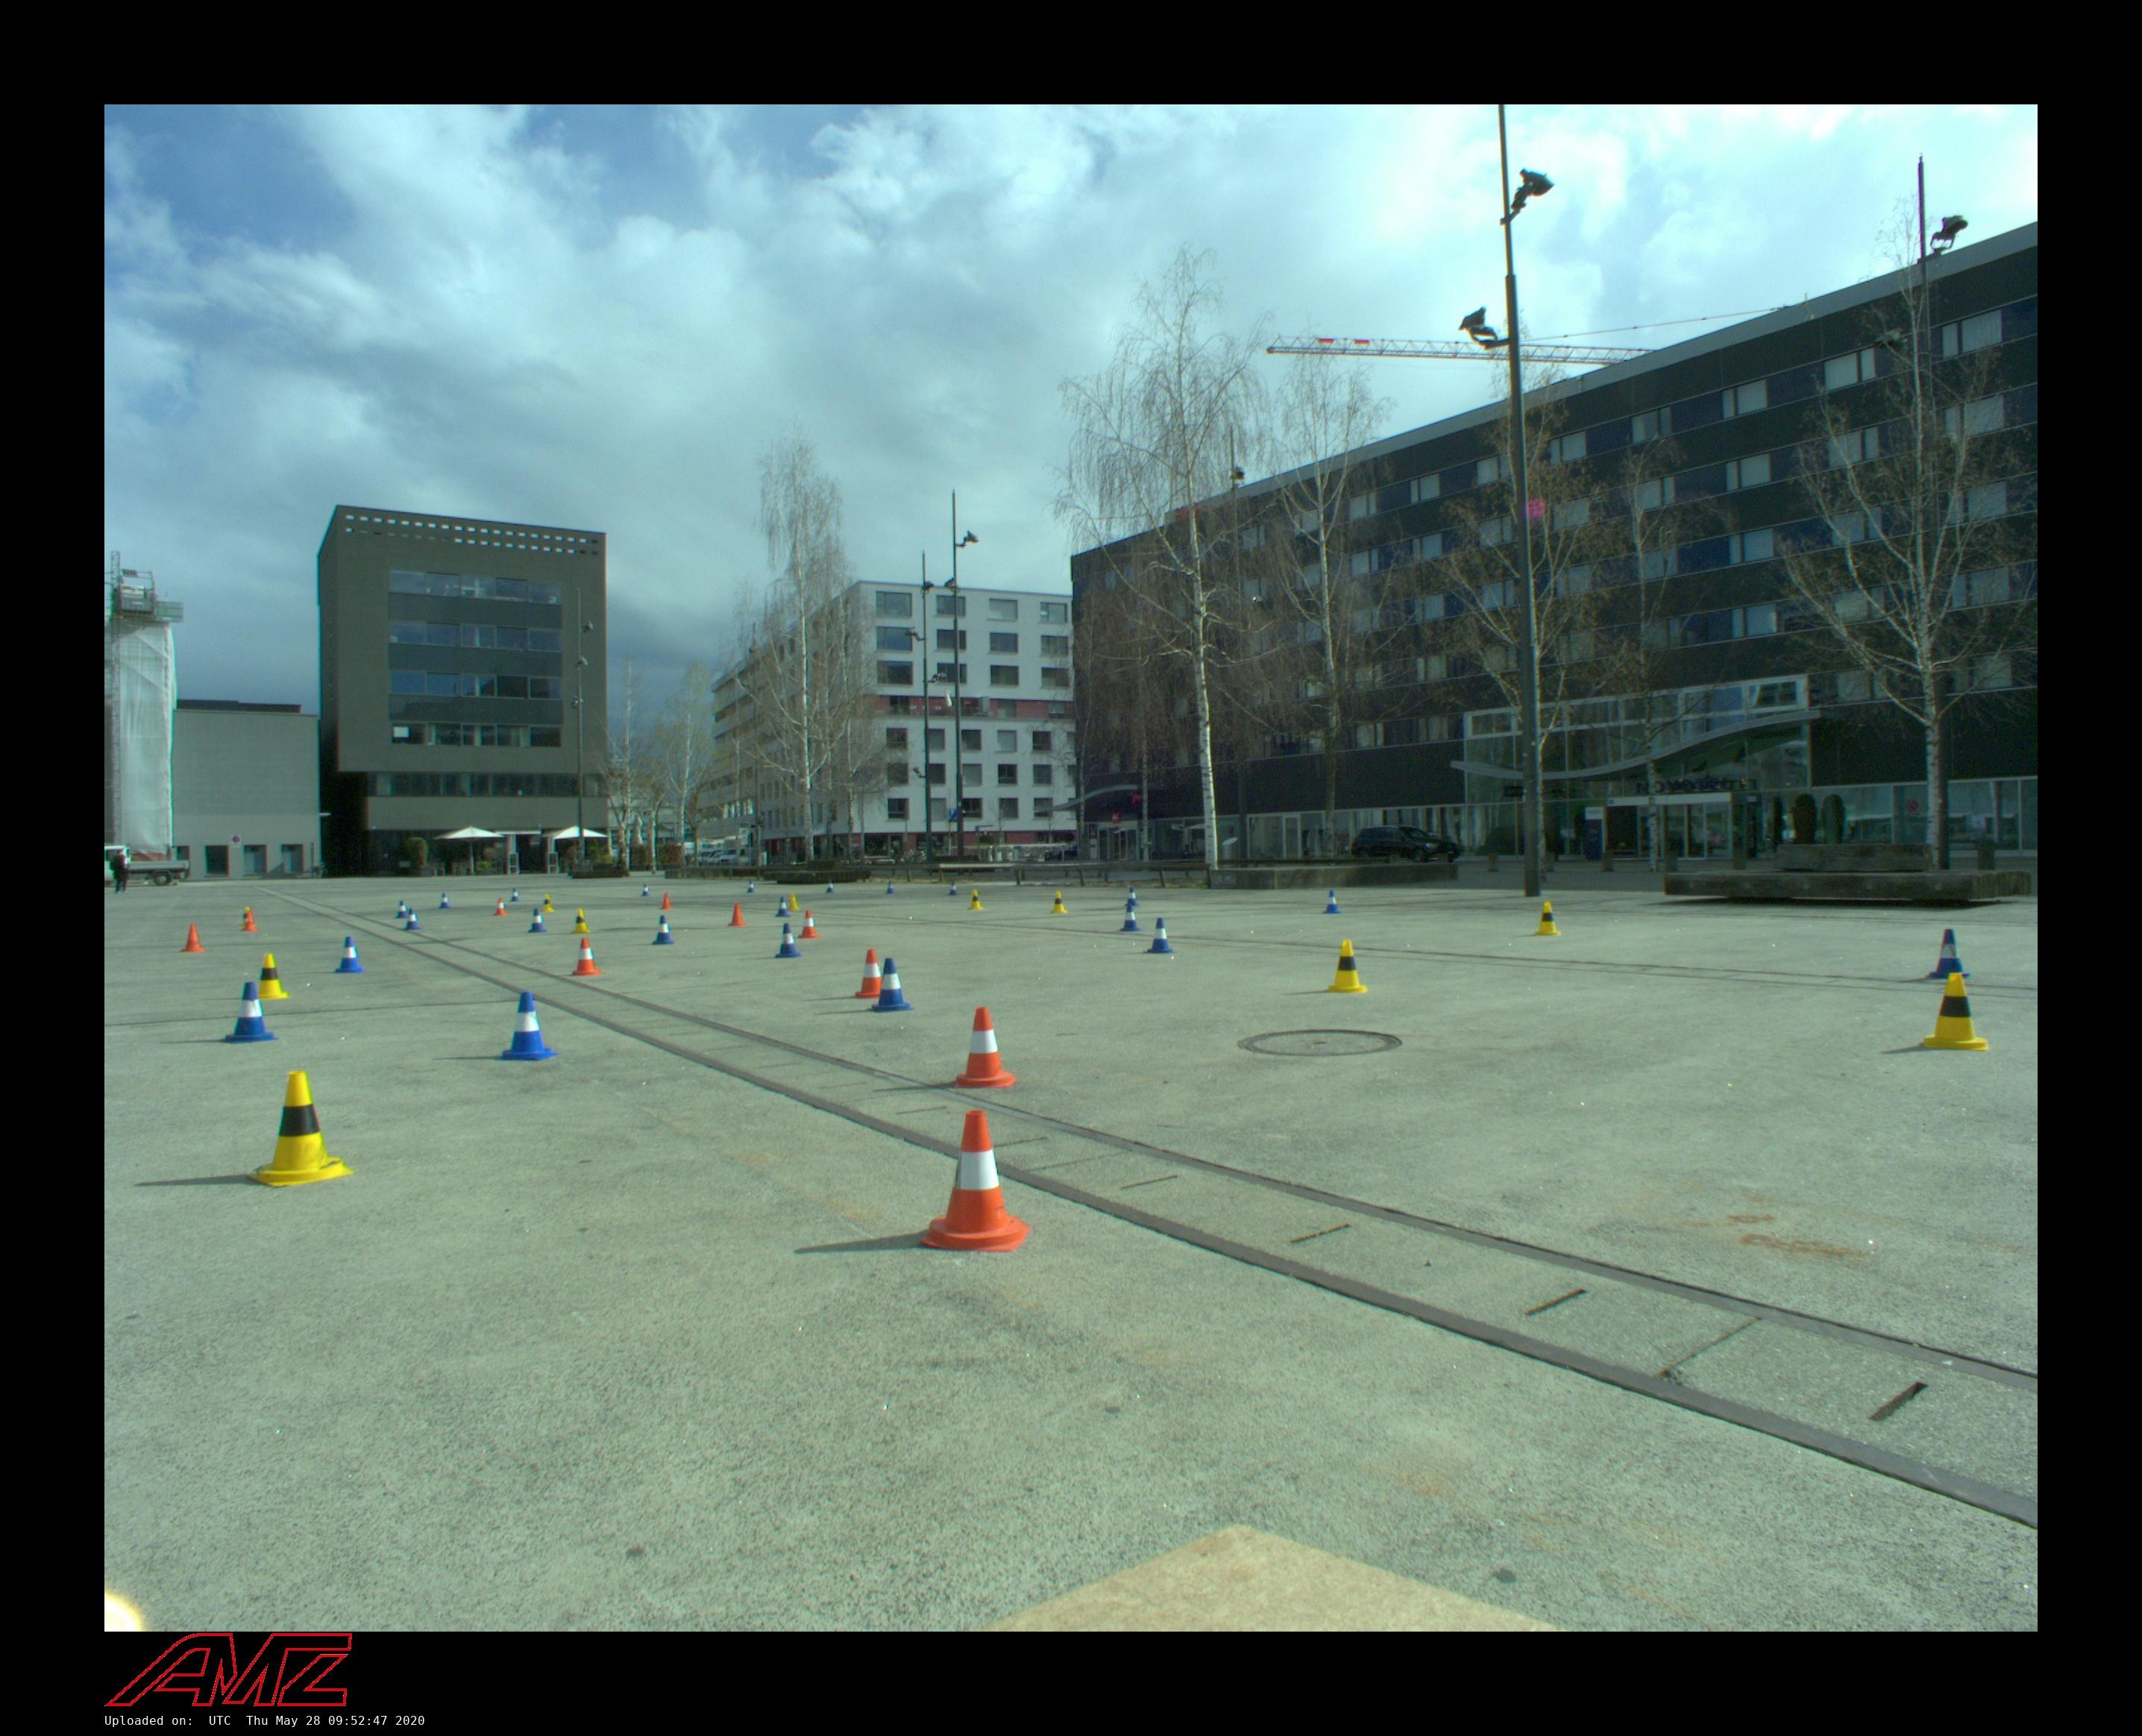blue_cone: (496, 992, 560, 1061), (220, 981, 280, 1043), (866, 958, 914, 1013), (1926, 928, 1970, 980), (335, 935, 365, 974), (1143, 918, 1175, 953), (774, 923, 803, 958), (652, 916, 675, 944), (1120, 903, 1141, 932), (528, 909, 547, 934), (1323, 889, 1343, 914), (404, 907, 422, 930), (774, 896, 790, 918), (395, 900, 411, 919), (1125, 887, 1139, 907), (439, 893, 452, 909), (948, 882, 960, 896), (510, 887, 521, 902), (886, 880, 896, 895), (641, 884, 652, 896), (746, 880, 757, 893), (826, 880, 836, 893)
orange_cone: (920, 1112, 1031, 1252), (953, 1006, 1017, 1089), (850, 948, 896, 999), (572, 937, 602, 976), (181, 923, 206, 953), (797, 911, 820, 939), (728, 902, 748, 926), (241, 911, 259, 932), (494, 898, 508, 916), (661, 893, 673, 911)
yellow_cone: (246, 1072, 354, 1189), (1922, 973, 1990, 1050), (1325, 939, 1368, 992), (246, 953, 292, 1001), (1533, 902, 1561, 935), (570, 907, 592, 934), (239, 905, 259, 928), (1051, 891, 1068, 914), (967, 889, 985, 911), (787, 891, 803, 911), (540, 895, 556, 912)
